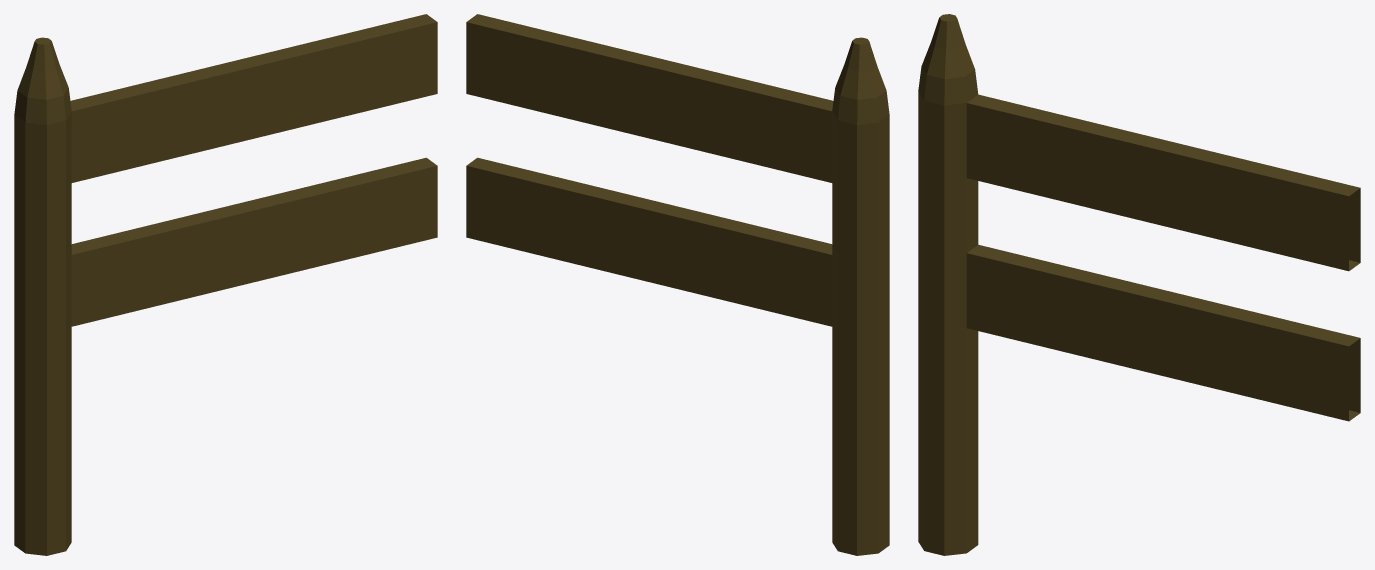
Rendered from fence2b.fbx.
3 renders of one model, left to right at view 1: azimuth 30°, elevation 25°; view 2: azimuth 150°, elevation 25°; view 3: azimuth 330°, elevation 25°, orthographic. The views are drawn at different scales.
Visible parts, largest first — view 1: fence2End; view 2: fence2End; view 3: fence2End.
Boxes of the visible parts, box(x1,y1,x2,y2) form: fence2End: box(14, 14, 437, 555); fence2End: box(466, 14, 889, 555); fence2End: box(918, 14, 1360, 555).
Bounding box in the file's own units: 250 × 291 × 28.12.
